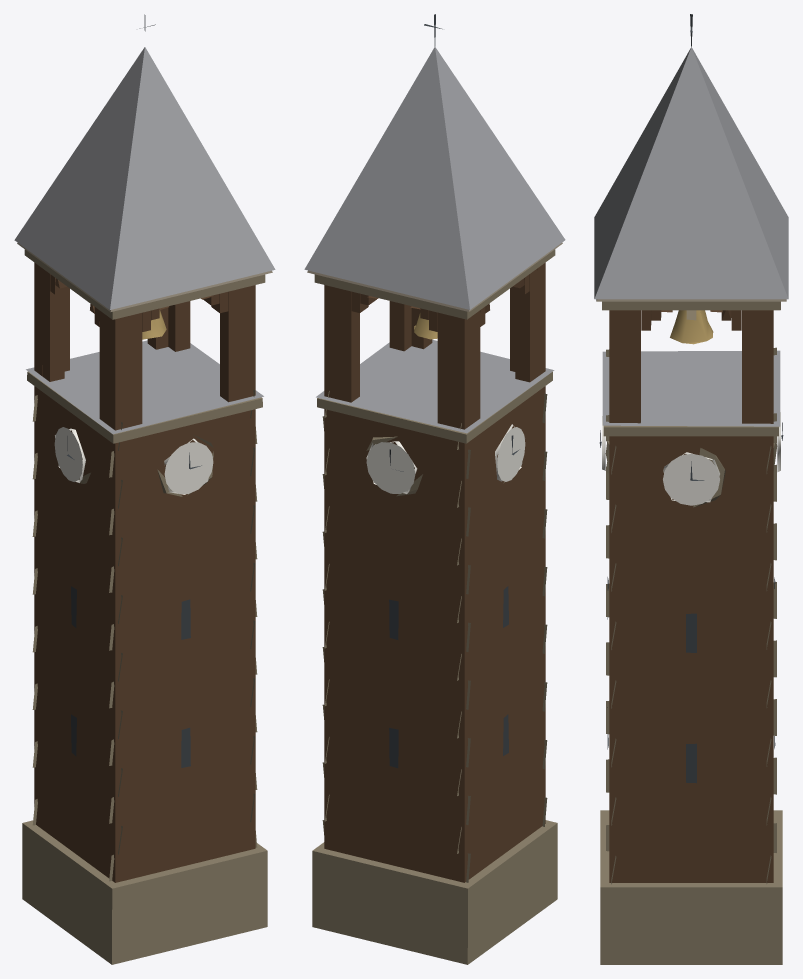
The model's file is bell-tower-snow-lod1.glb.
3 views of the same model, side by side, from view 1: azimuth 30°, elevation 25°; view 2: azimuth 150°, elevation 25°; view 3: azimuth 270°, elevation 25° (orthographic).
Parts seen in each view (by area): view 1: bell-tower-snow.001; view 2: bell-tower-snow.001; view 3: bell-tower-snow.001.
Boxes of the visible parts, box(x1,y1,x2,y2) form: bell-tower-snow.001: box(14, 14, 275, 964); bell-tower-snow.001: box(304, 14, 565, 964); bell-tower-snow.001: box(594, 14, 788, 964).
Bounding box in the file's own units: 5.41 × 28.04 × 5.41.
